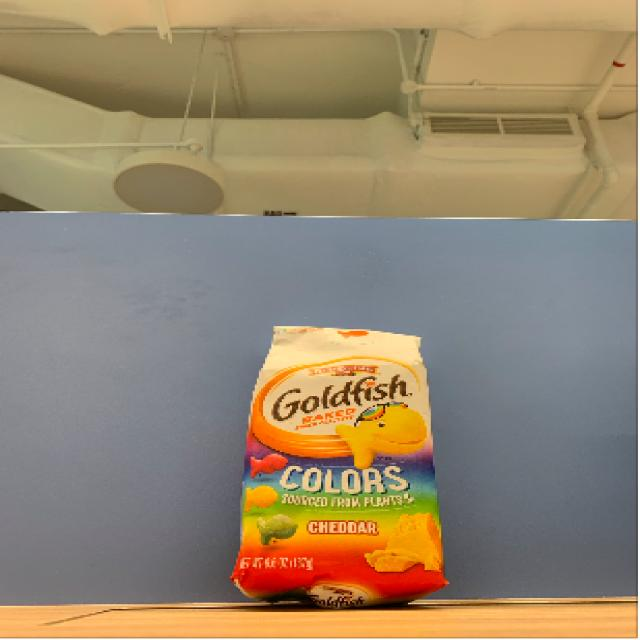object_name: (250, 332, 440, 607)
